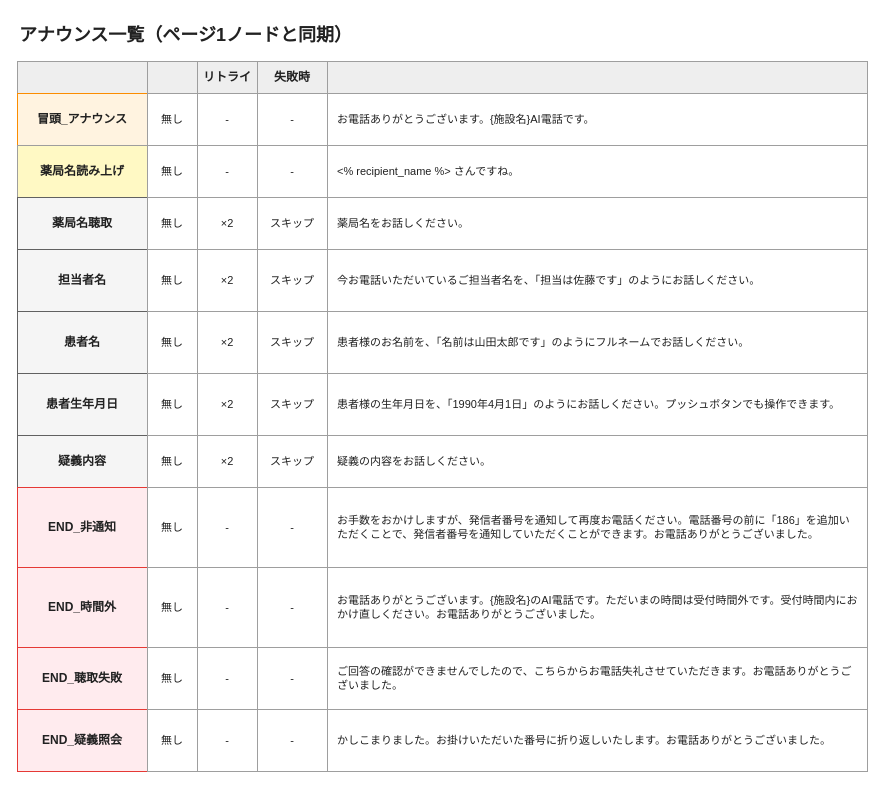
The diagram is 885 pixels wide and 789 high, and some of its shapes have lost their labels. Each missing label, with the centre of its shape:
"復唱" goes at point (172, 77).
"発話文言" goes at point (597, 77).
"聴取項目" goes at point (82, 77).
